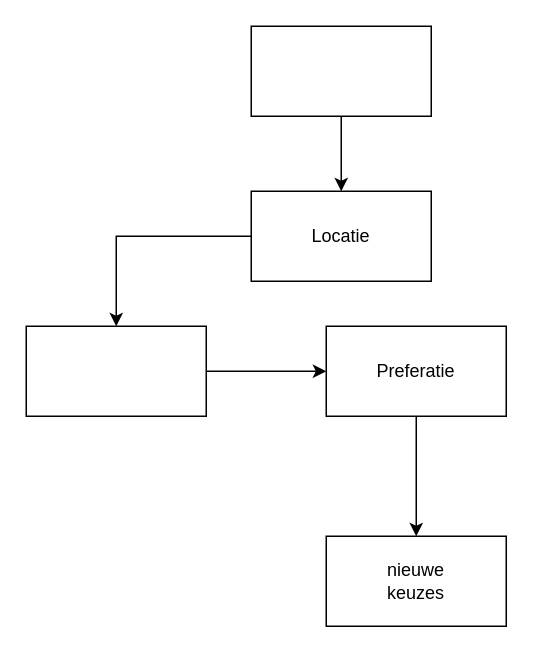
Image size: 533x653. Some labels were removed from this diagram. The shapes that lost their labels are listed below. From the top down, each one's centre as x and y in pixels, then its label:
the point at 340,70: Home
the point at 115,370: aanbevolen
